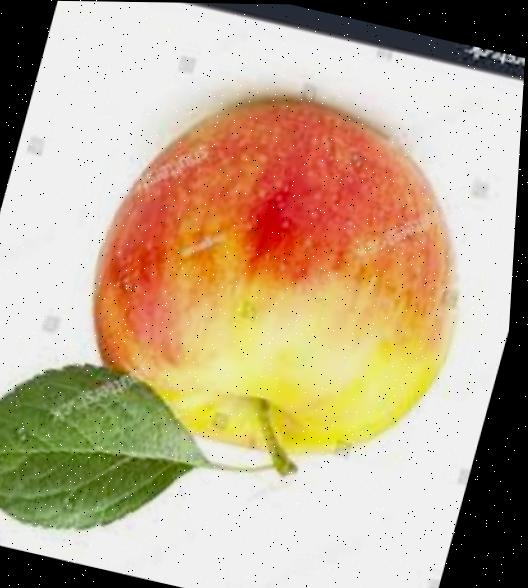HEALTHY: (28, 50, 518, 528)
